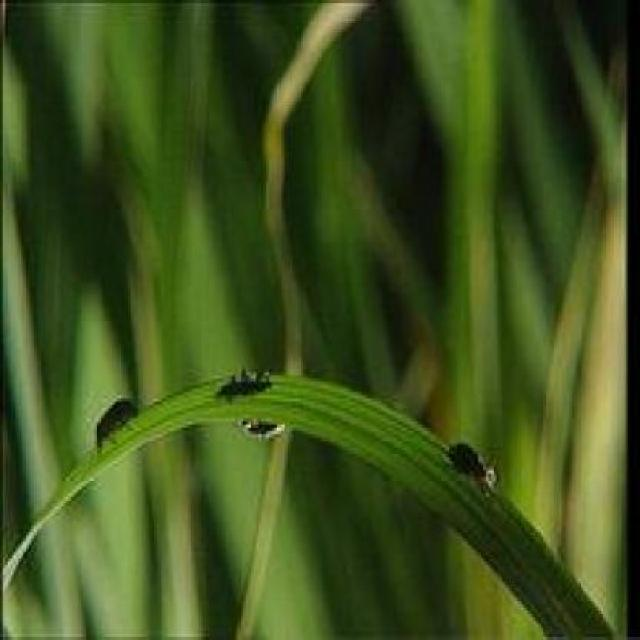rice-bug: (92, 392, 145, 456), (448, 438, 503, 492), (217, 368, 283, 402), (237, 422, 297, 443)
